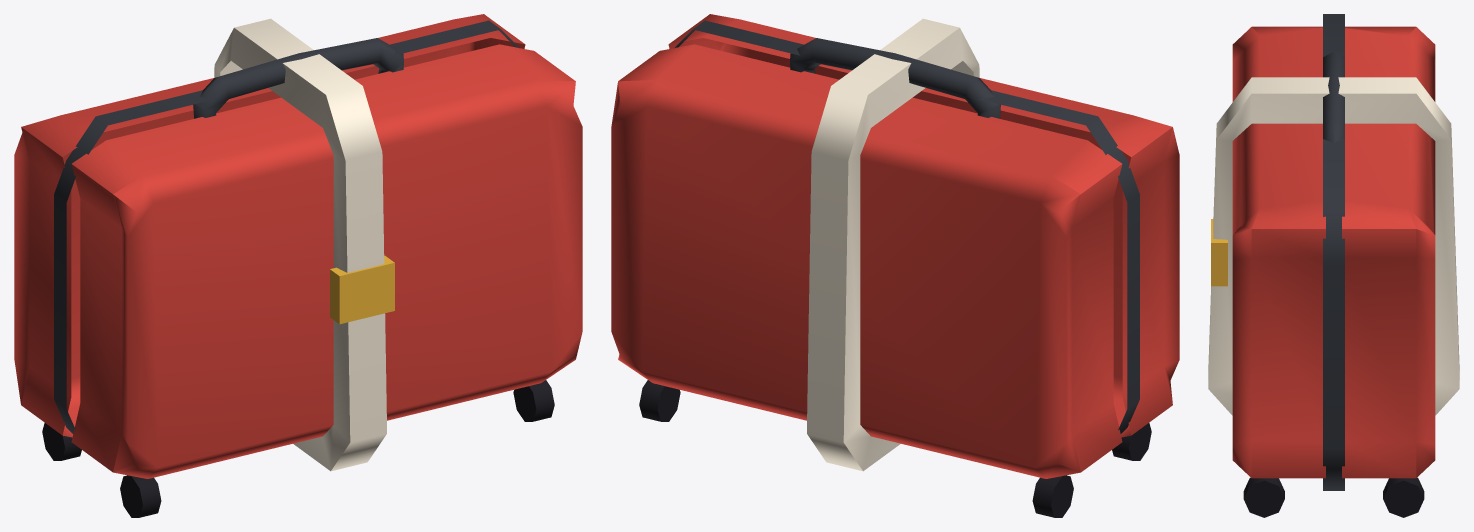
Rendered from Maleta3.fbx.
The picture shows the model from 3 angles, left to right: view 1: azimuth 30°, elevation 25°; view 2: azimuth 150°, elevation 25°; view 3: azimuth 270°, elevation 25°; orthographic projection. The views are drawn at different scales.
Parts seen in each view (by area): view 1: Maleta3; view 2: Maleta3; view 3: Maleta3.
Boxes of the visible parts, x1,y1,x2,y2 form: Maleta3: (14, 14, 582, 517); Maleta3: (611, 14, 1179, 517); Maleta3: (1208, 14, 1459, 517).
Bounding box in the file's own units: 1.55 × 1.2 × 0.7917.
1 material, 1 textured.
